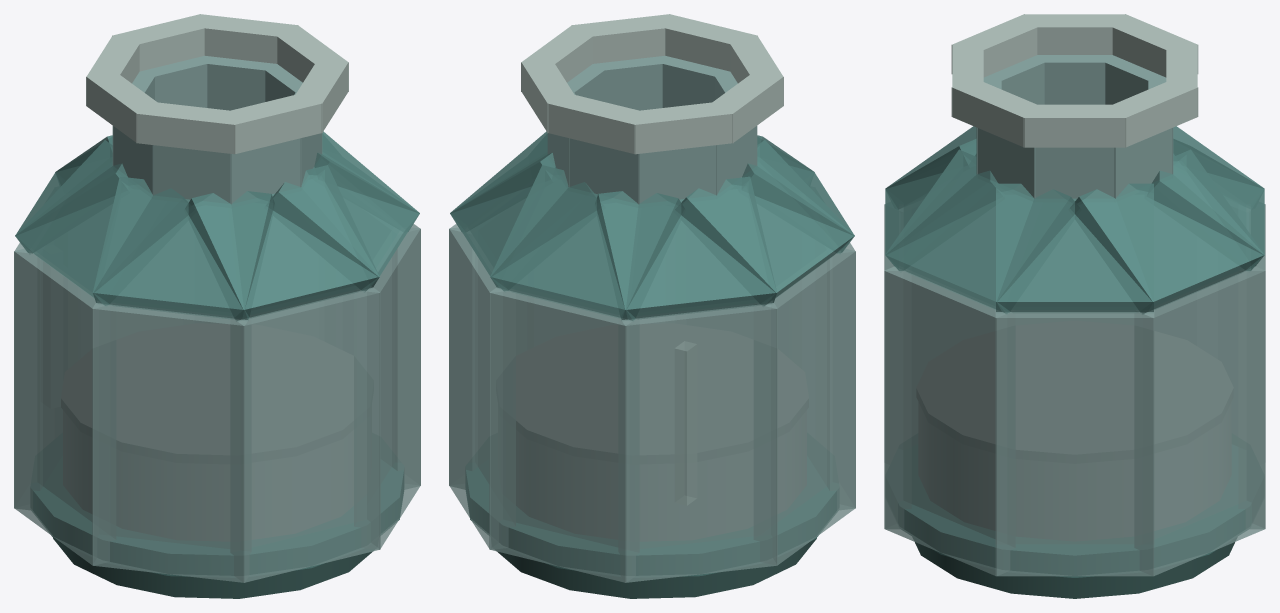
The model's file is CMU3DBottleFill2StudyCloud.glb.
3 views of the same model, side by side, from view 1: azimuth 30°, elevation 25°; view 2: azimuth 150°, elevation 25°; view 3: azimuth 270°, elevation 25° (orthographic).
Visible parts, largest first — view 1: hollow bottle wall 06, hollow bottle wall 07, flat liquid meniscus, hollow bottle wall 05, inward glass shoulder 06, static liquid volume level 2, inward glass shoulder 07, hollow bottle wall 08, inward glass shoulder 05, bottom glass welt, inward glass shoulder 08, hollow bottle wall 01 (+22 smaller); view 2: hollow bottle wall 04, hollow bottle wall 03, hollow bottle wall 05, flat liquid meniscus, inward glass shoulder 04, inward glass shoulder 03, hollow bottle wall 02, static liquid volume level 2, inward glass shoulder 05, bottom glass welt, inward glass shoulder 02, hollow bottle wall 01 (+23 smaller); view 3: hollow bottle wall 01, hollow bottle wall 02, hollow bottle wall 08, flat liquid meniscus, static liquid volume level 2, inward glass shoulder 01, inward glass shoulder 02, inward glass shoulder 08, bottom glass welt, inward glass shoulder 03, inward glass shoulder 07, hollow bottle wall 03 (+21 smaller).
Part boxes in pixels (x1,y1,x2,y2): hollow bottle wall 06: (92, 303, 251, 582); hollow bottle wall 07: (230, 287, 380, 582); flat liquid meniscus: (61, 324, 353, 463); hollow bottle wall 05: (14, 248, 115, 565); inward glass shoulder 06: (92, 176, 274, 320); static liquid volume level 2: (63, 411, 353, 540); inward glass shoulder 07: (185, 165, 379, 321); hollow bottle wall 08: (354, 228, 420, 549); inward glass shoulder 05: (15, 140, 194, 306); bottom glass welt: (31, 456, 403, 577); inward glass shoulder 08: (266, 131, 419, 292); hollow bottle wall 01: (343, 224, 420, 489); hollow bottle wall 04: (618, 302, 777, 582); hollow bottle wall 03: (489, 287, 639, 582); hollow bottle wall 05: (754, 248, 855, 565); flat liquid meniscus: (516, 324, 808, 463); inward glass shoulder 04: (595, 176, 777, 320); inward glass shoulder 03: (490, 165, 684, 321); hollow bottle wall 02: (449, 228, 515, 549); static liquid volume level 2: (516, 411, 806, 540); inward glass shoulder 05: (675, 140, 854, 306); bottom glass welt: (466, 456, 838, 577); inward glass shoulder 02: (450, 131, 603, 292); hollow bottle wall 01: (449, 224, 526, 489); hollow bottle wall 01: (995, 310, 1154, 576); hollow bottle wall 02: (1134, 266, 1265, 576); hollow bottle wall 08: (884, 266, 1015, 576); flat liquid meniscus: (917, 321, 1232, 463); static liquid volume level 2: (919, 404, 1230, 540); inward glass shoulder 01: (996, 183, 1153, 312); inward glass shoulder 02: (1070, 149, 1264, 314); inward glass shoulder 08: (885, 149, 1079, 314); bottom glass welt: (898, 444, 1251, 577); inward glass shoulder 03: (1147, 126, 1264, 271); inward glass shoulder 07: (885, 126, 1002, 271); hollow bottle wall 03: (1238, 205, 1265, 529).
Size of the model in its own units: 0.3387 by 0.453 by 0.3387.
